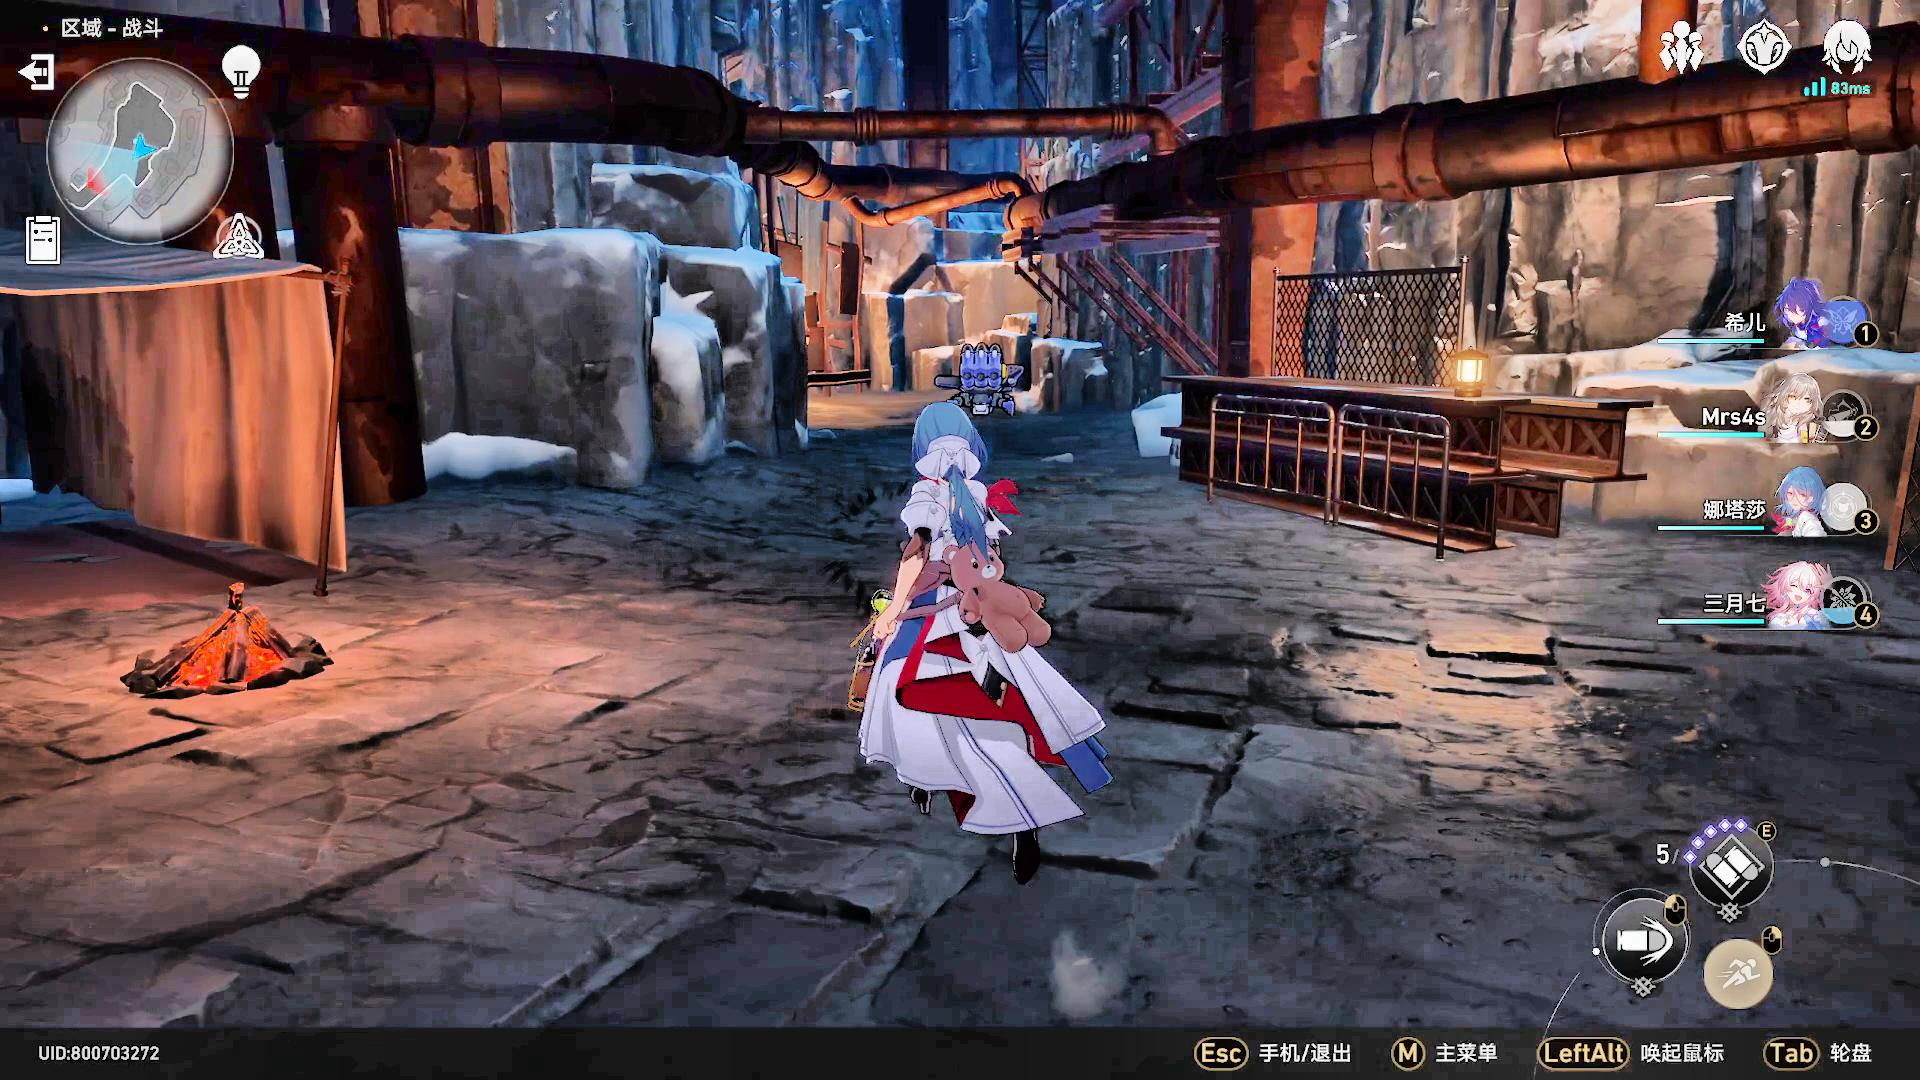Enemy: (934, 343, 1022, 415)
Self: (849, 404, 1120, 893)
